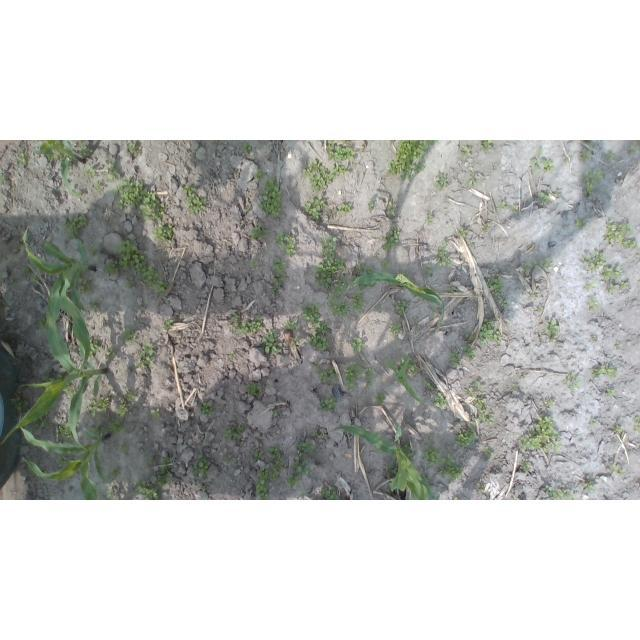Maize: (0, 274, 108, 453), (22, 227, 97, 376), (17, 414, 111, 500), (331, 421, 433, 500), (351, 271, 446, 329), (36, 140, 84, 196), (385, 355, 424, 404)
Weeds: (114, 180, 166, 221), (387, 140, 438, 181), (519, 415, 562, 454), (314, 252, 347, 289), (116, 237, 148, 271), (605, 221, 640, 250), (258, 180, 283, 219), (302, 160, 331, 192), (327, 277, 349, 316), (137, 268, 168, 293), (255, 468, 279, 500), (267, 257, 287, 294), (61, 214, 88, 241), (308, 322, 332, 351), (477, 318, 501, 346), (183, 185, 207, 213), (327, 141, 356, 164), (581, 169, 604, 197), (289, 460, 312, 488), (273, 230, 296, 257), (473, 396, 495, 424), (439, 454, 463, 479), (304, 195, 327, 221), (262, 329, 283, 355), (8, 392, 30, 415), (583, 251, 607, 272), (136, 480, 161, 500), (544, 484, 575, 500), (137, 343, 156, 369), (457, 428, 480, 449), (344, 362, 360, 392), (436, 240, 453, 268), (424, 437, 440, 466), (86, 397, 108, 417), (541, 320, 560, 343), (103, 159, 122, 182), (382, 228, 399, 253), (485, 275, 505, 296), (153, 221, 175, 240), (268, 447, 286, 470), (194, 453, 211, 477), (296, 439, 316, 459), (241, 317, 263, 334), (591, 363, 617, 377), (301, 303, 321, 321), (56, 422, 74, 442), (224, 423, 244, 441), (150, 471, 172, 487), (351, 292, 367, 313), (330, 163, 350, 179), (433, 171, 448, 192), (529, 147, 542, 171), (252, 222, 269, 240), (321, 396, 340, 412), (467, 380, 486, 396), (109, 420, 126, 437), (319, 235, 337, 251), (564, 372, 580, 390), (244, 383, 264, 397), (62, 382, 77, 400), (604, 266, 622, 281), (434, 391, 449, 409), (448, 349, 462, 368), (350, 336, 364, 354), (365, 367, 376, 389), (116, 399, 128, 419), (123, 328, 137, 345), (388, 322, 402, 339), (80, 278, 93, 296), (56, 454, 71, 469), (128, 141, 143, 156), (580, 147, 592, 165), (401, 445, 415, 460), (104, 261, 118, 276), (396, 300, 409, 316), (336, 204, 352, 217), (609, 464, 625, 477), (386, 202, 398, 219), (387, 461, 398, 479), (88, 340, 100, 356), (291, 336, 304, 350), (537, 192, 551, 205), (588, 297, 601, 311), (34, 416, 48, 429), (285, 318, 300, 330), (15, 151, 25, 168), (542, 160, 555, 173), (408, 365, 421, 378), (463, 344, 476, 357), (201, 402, 213, 416), (375, 391, 386, 406), (523, 262, 534, 277), (104, 348, 116, 361), (460, 145, 473, 157), (423, 264, 434, 278), (231, 315, 239, 333), (151, 408, 162, 421), (95, 180, 105, 194), (162, 318, 173, 330), (423, 381, 435, 392), (584, 483, 596, 494), (125, 392, 137, 403), (79, 146, 91, 157), (243, 142, 253, 155), (38, 316, 47, 330), (107, 468, 121, 477), (575, 217, 585, 229), (542, 399, 554, 409), (88, 300, 100, 310), (51, 148, 61, 160), (255, 169, 264, 182), (369, 196, 376, 212), (41, 374, 55, 382), (320, 372, 330, 383), (542, 258, 552, 269), (496, 298, 507, 308), (72, 187, 83, 197), (89, 246, 99, 257), (633, 417, 640, 432), (160, 459, 168, 472), (586, 282, 596, 292), (521, 462, 531, 472), (31, 274, 41, 284), (253, 451, 263, 461), (86, 167, 96, 177), (481, 141, 492, 150), (499, 201, 508, 212), (21, 267, 32, 276), (484, 447, 493, 458), (105, 491, 116, 500), (457, 228, 469, 236), (402, 270, 411, 280), (608, 285, 618, 294), (589, 420, 599, 429), (606, 388, 616, 397), (95, 424, 105, 433), (464, 180, 476, 187), (312, 432, 324, 439), (621, 282, 630, 291), (271, 410, 280, 419), (608, 153, 617, 162), (380, 259, 388, 269), (425, 215, 433, 225), (118, 444, 128, 452), (367, 267, 378, 274), (327, 368, 335, 377), (628, 146, 637, 154), (465, 333, 475, 340), (512, 205, 519, 215), (432, 492, 440, 500), (146, 456, 154, 464), (312, 364, 321, 371), (229, 350, 236, 359), (360, 284, 368, 291), (432, 307, 439, 315), (448, 285, 456, 292), (615, 341, 622, 349), (615, 425, 622, 433), (34, 460, 41, 468), (588, 141, 596, 148), (1, 175, 6, 186), (250, 261, 257, 268), (531, 293, 538, 300), (519, 373, 527, 379), (483, 222, 489, 230), (557, 189, 563, 197), (200, 486, 206, 493), (467, 241, 473, 248), (370, 282, 377, 288), (67, 162, 73, 169), (351, 276, 359, 281), (513, 386, 519, 392), (126, 284, 133, 289), (356, 267, 362, 272), (538, 306, 544, 311), (55, 374, 61, 379), (223, 457, 229, 462), (334, 376, 339, 381), (480, 488, 485, 493), (78, 140, 83, 145), (361, 272, 367, 276), (453, 496, 459, 500), (376, 308, 381, 312), (534, 260, 538, 265), (469, 171, 473, 175), (616, 441, 619, 445)
